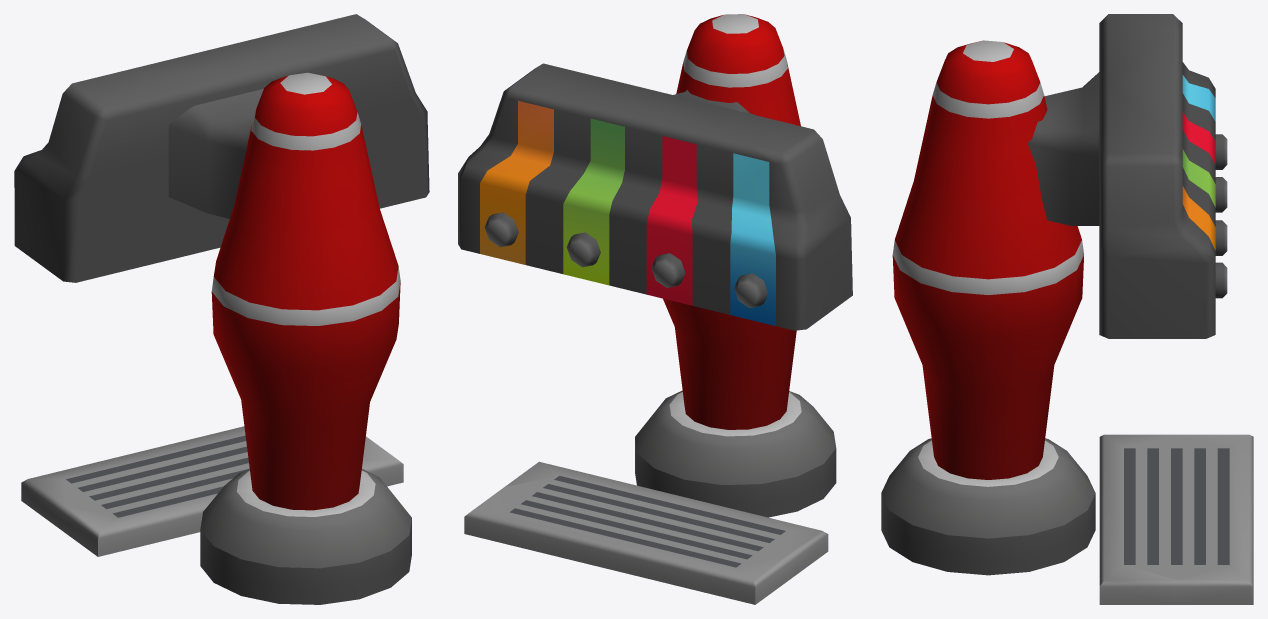
File: Station Soda Machine.fbx
3 views of the same model, side by side, from view 1: azimuth 30°, elevation 25°; view 2: azimuth 150°, elevation 25°; view 3: azimuth 270°, elevation 25° (orthographic). The views are drawn at different scales.
Visible parts, largest first — view 1: Station_Soda_Machine; view 2: Station_Soda_Machine; view 3: Station_Soda_Machine.
Part boxes in pixels (x1=…): Station_Soda_Machine: x1=14, y1=14, x2=429, y2=604; Station_Soda_Machine: x1=458, y1=14, x2=852, y2=604; Station_Soda_Machine: x1=881, y1=14, x2=1253, y2=604.
Bounding box in the file's own units: 199 × 247 × 174.
